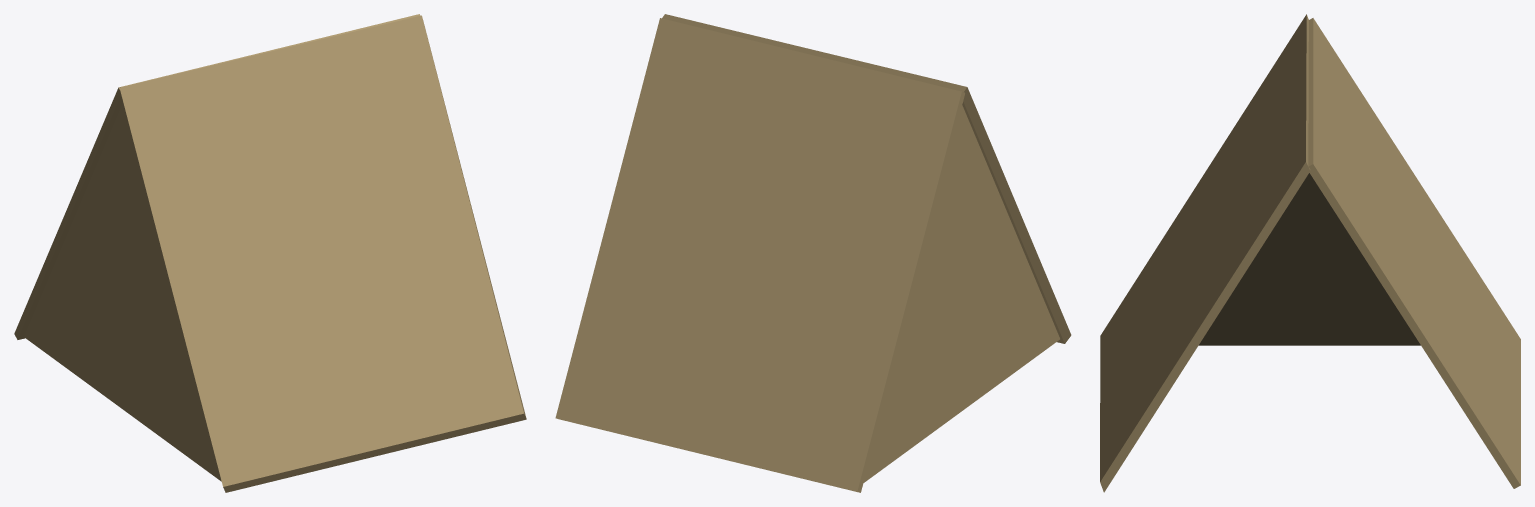
The model's file is namiot.glb.
3 renders of one model, left to right at view 1: azimuth 30°, elevation 25°; view 2: azimuth 150°, elevation 25°; view 3: azimuth 270°, elevation 25°, orthographic.
Parts seen in each view (by area): view 1: Cube, Cube.002, Cube.001; view 2: Cube.001, Cube.002, Cube; view 3: Cube.001, Cube, Cube.002.
Boxes of the visible parts, left/top/right/bottom form: Cube: left=119, top=15, right=526, bottom=492; Cube.002: left=23, top=87, right=221, bottom=481; Cube.001: left=14, top=14, right=420, bottom=339; Cube.001: left=555, top=18, right=964, bottom=492; Cube.002: left=863, top=105, right=1059, bottom=482; Cube: left=662, top=14, right=1071, bottom=343; Cube.001: left=1308, top=18, right=1520, bottom=488; Cube: left=1100, top=14, right=1310, bottom=492; Cube.002: left=1198, top=18, right=1420, bottom=345.
Bounding box in the file's own units: 4.68 × 4.85 × 5.6.
3 materials, 3 textured.
